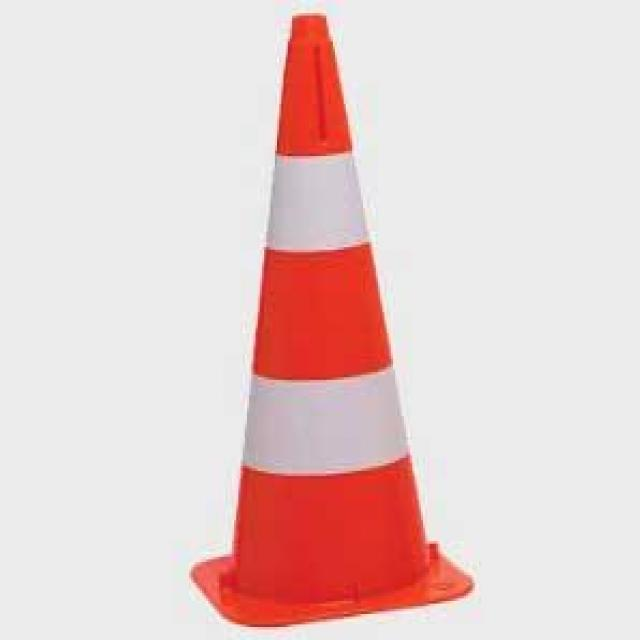cone: (174, 2, 491, 610)
